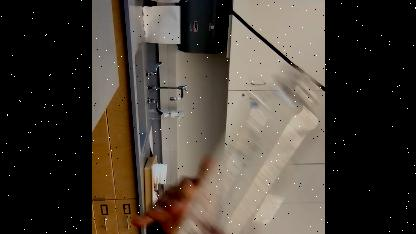Plastic Bottle: (147, 78, 316, 234)
